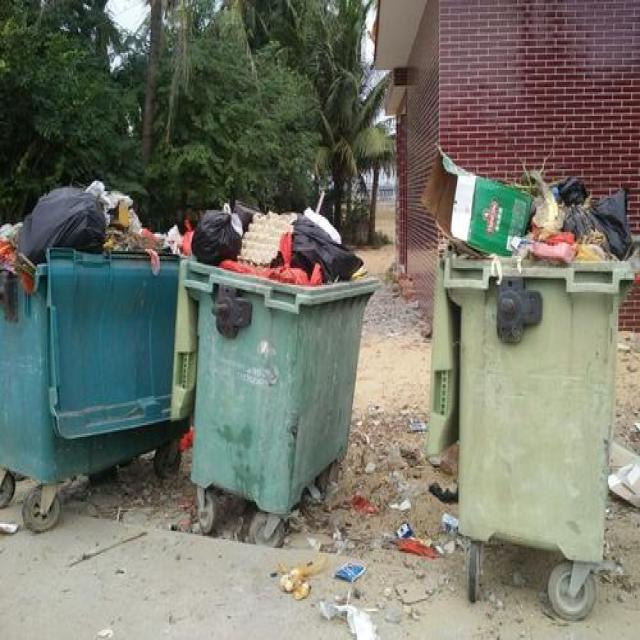garbage: (280, 480, 457, 638)
overflow: (420, 142, 637, 562), (170, 200, 379, 510), (0, 179, 189, 481)
